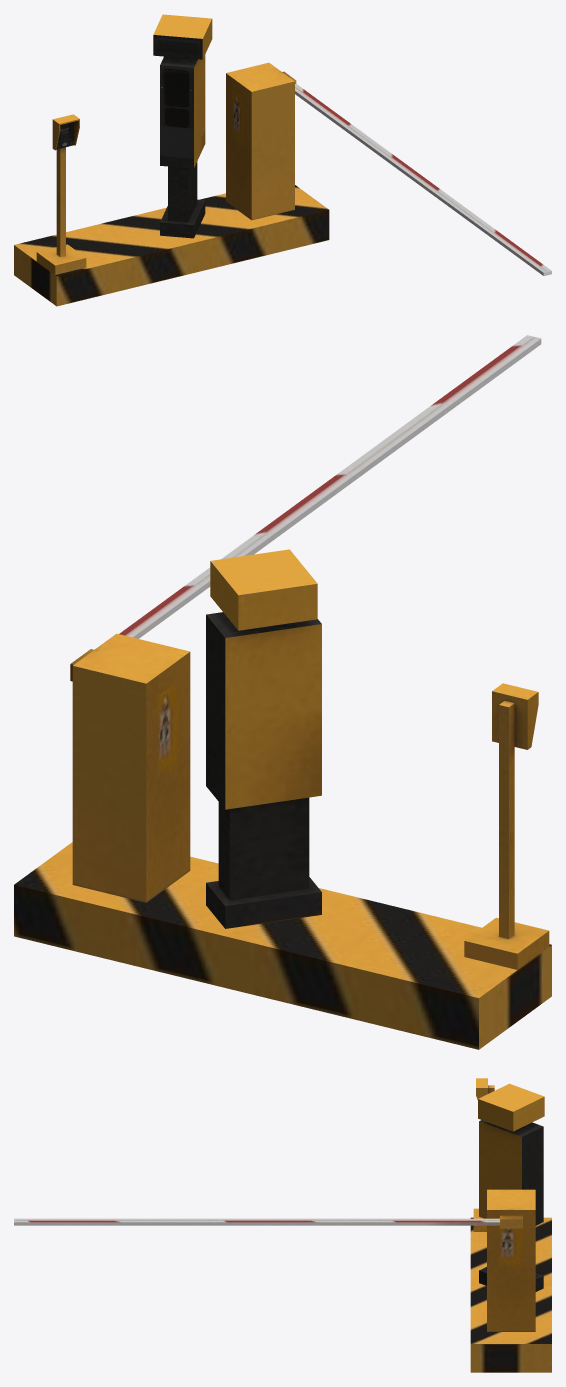
Rendered from LPRInOut.gltf.
3 views of the same model, one above another, from view 1: azimuth 30°, elevation 25°; view 2: azimuth 150°, elevation 25°; view 3: azimuth 270°, elevation 25° (orthographic). The views are drawn at different scales.
Visible parts, largest first — view 1: LPRInOut; view 2: LPRInOut; view 3: LPRInOut.
Boxes of the visible parts, x1,y1,x2,y2 form: LPRInOut: [14, 14, 551, 306]; LPRInOut: [14, 335, 551, 1049]; LPRInOut: [14, 1078, 551, 1372].
Bounding box in the file's own units: 19.17 × 15.35 × 34.51.
1 material, 1 textured.
